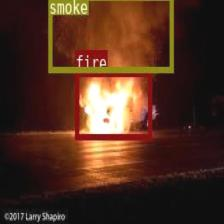fire: (74, 69, 151, 139)
smoke: (47, 0, 173, 72)
